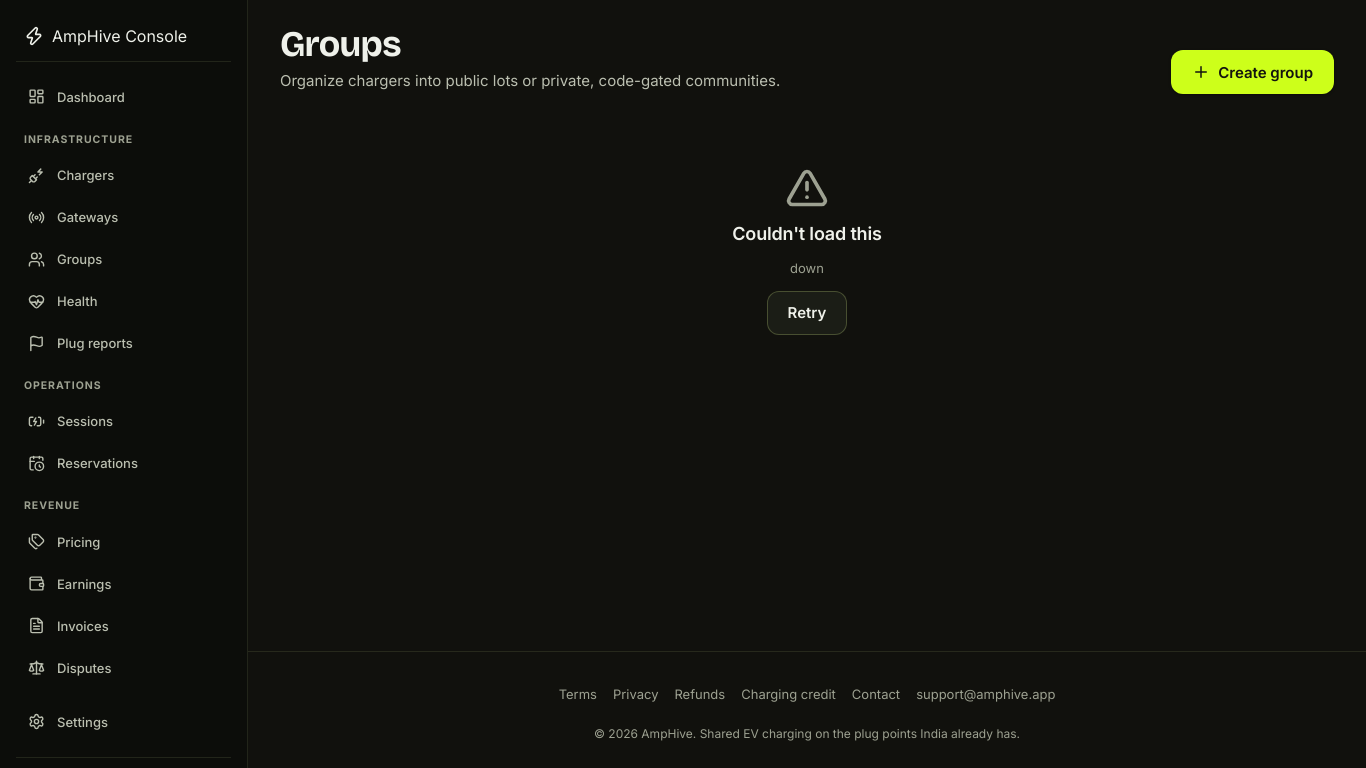
it: groups list › shows a retryable error instead of an empty state on failure
Expected: the heading "Couldn't load this" is shown, [732,222,882,246]
Step 1. Click the button "Retry" → point(807, 313), box [767,291,847,335]
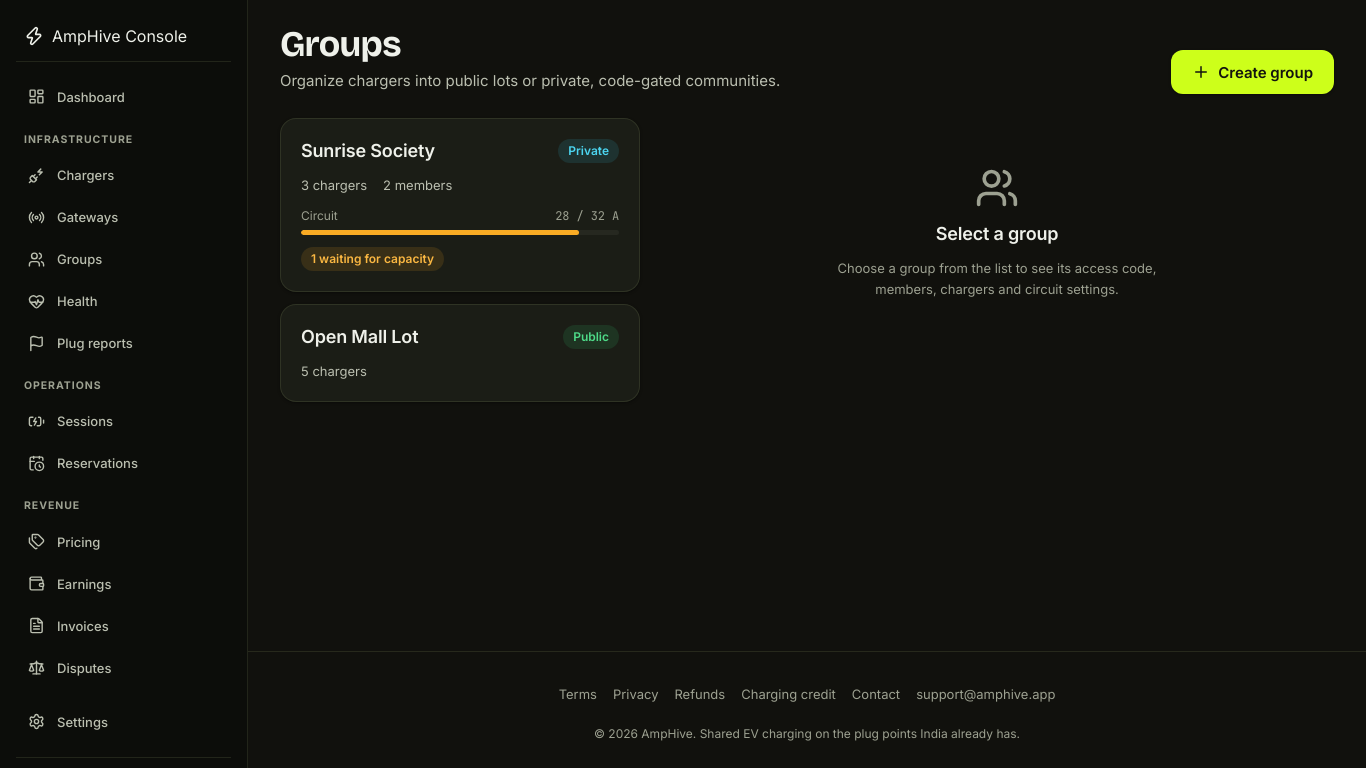
Expected: the heading "Sunrise Society" is shown, [301,139,435,163]
